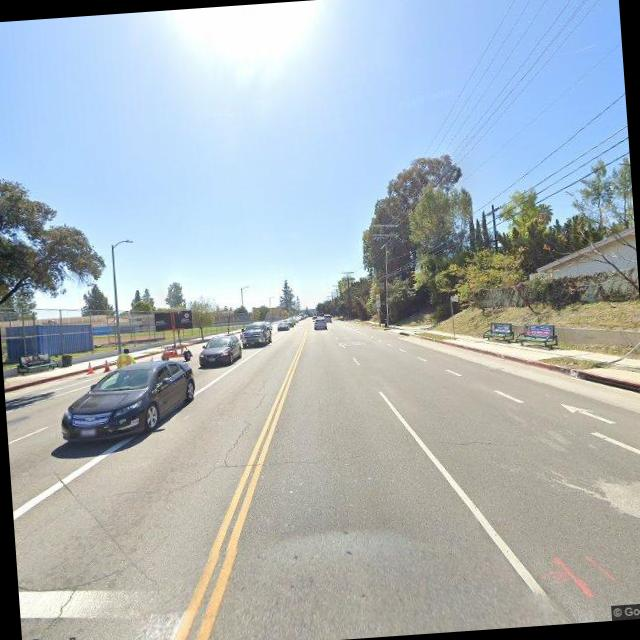crack: (165, 371, 276, 492), (434, 428, 530, 454), (36, 584, 79, 636)
